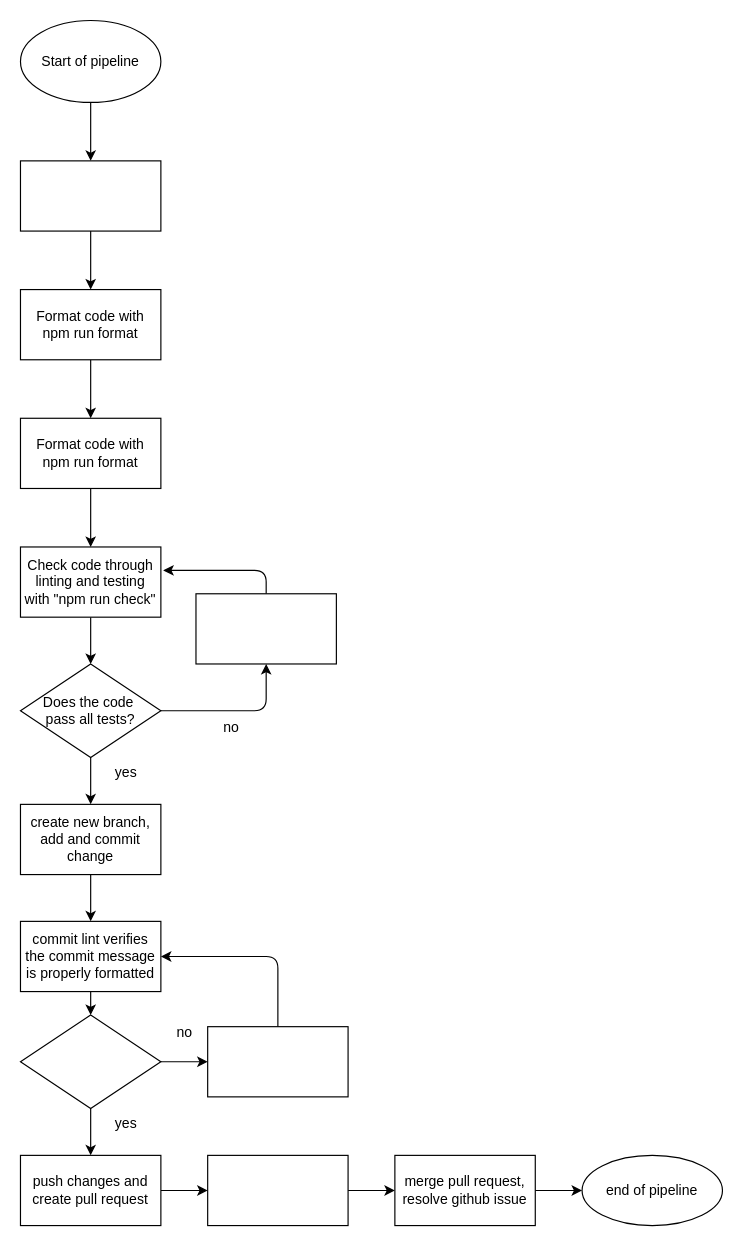
Some shapes in this 743 by 1246 pixel diagram are drawn without their labels. Here are the shapes that lost their labels. From the top down, the centre of each, then its label:
(90,195): Lint code with npm run lint
(265,628): debug and rerun tests
(90,1061): Is the commit message formatted properly?
(277,1061): revise commit message to commitlint standard format
(277,1190): another team member reviews code
